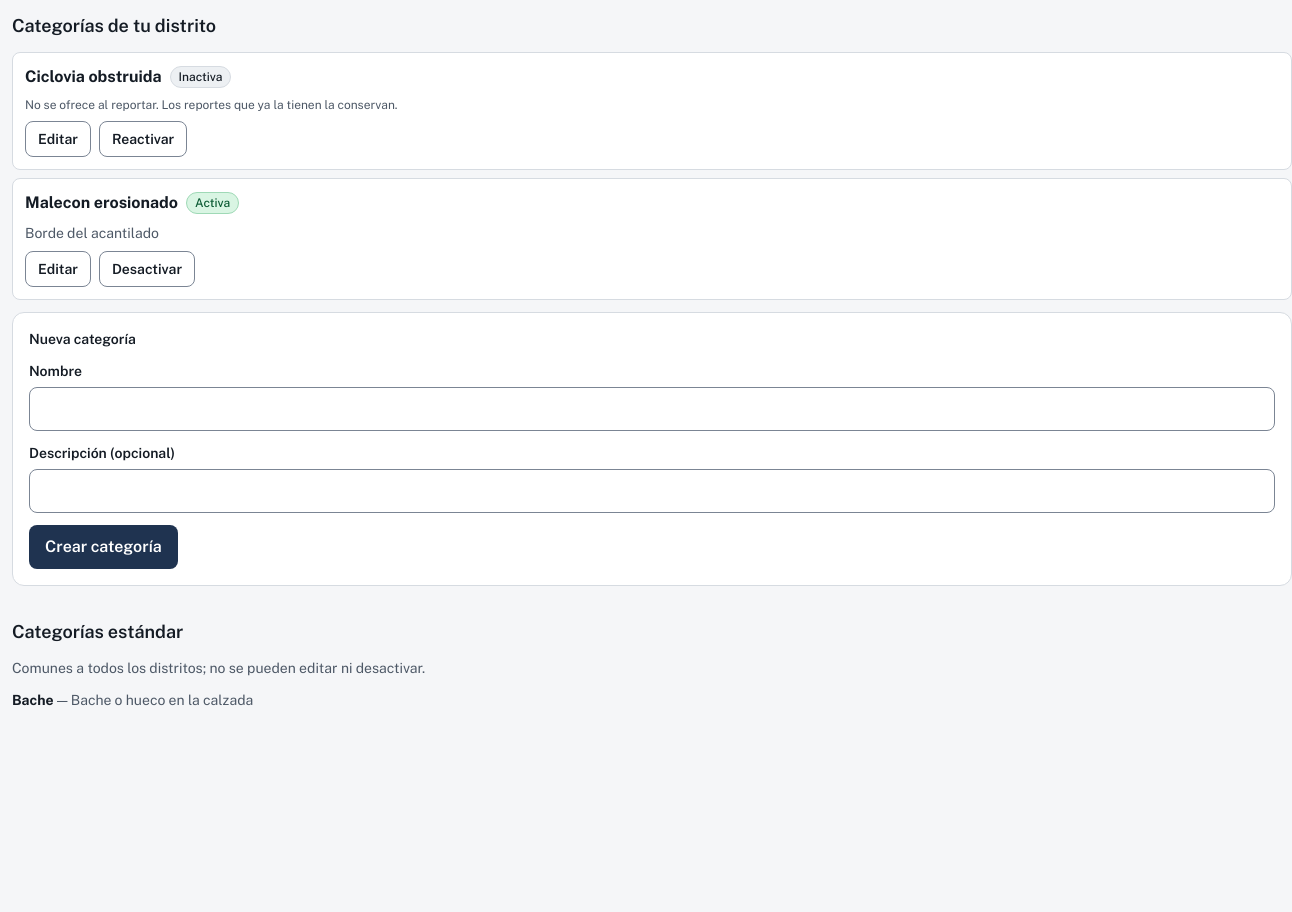
Test case: GestionCategorias › crea una categoría y muestra el 409 de nombre repetido
The image size is (1292, 912).
Expected: the text "Malecon erosionado" is shown, [25,191,178,215]
In the field labelled "Nombre": (652, 409) [29,387,1275,431], type "Bache"
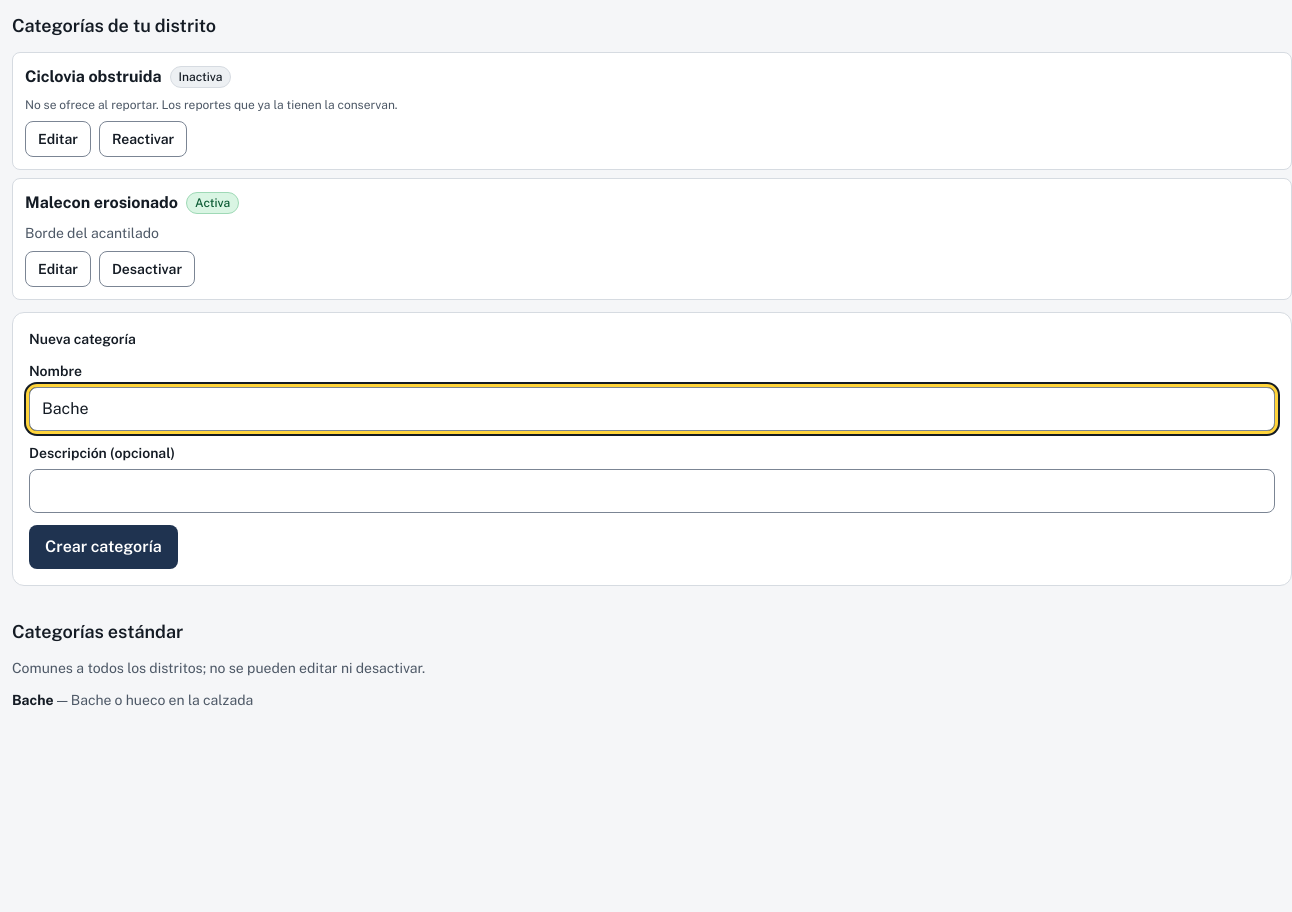
Click the button "Crear categoría": (103, 547) [29,525,178,569]
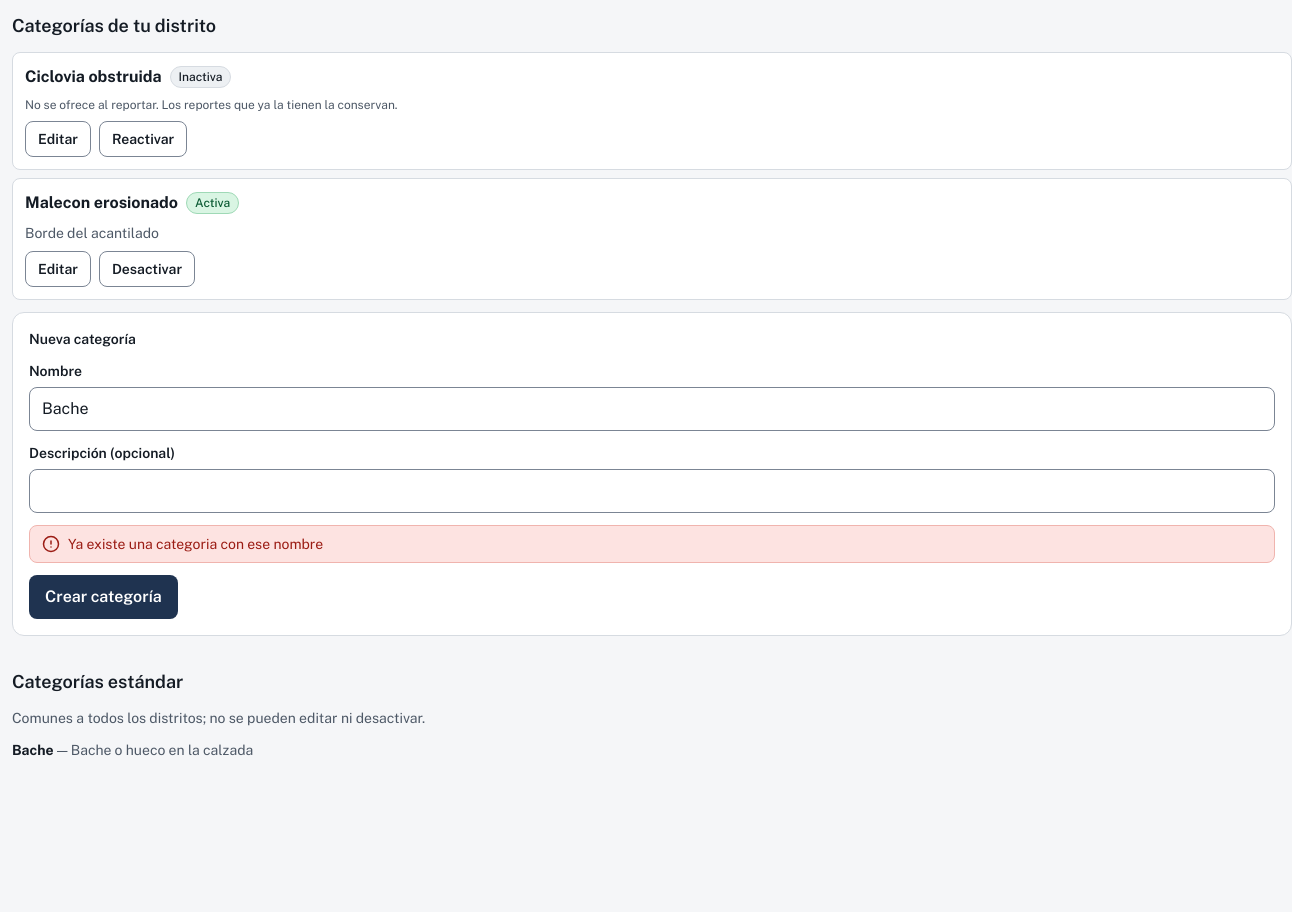
Now the text "Ya existe una categoria con ese nombre" is shown, box [68,536,323,552]
